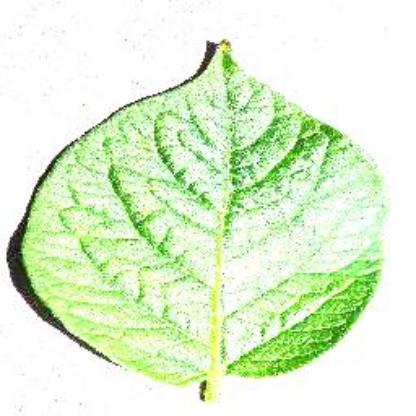Healthy-plant: (21, 28, 393, 406)
